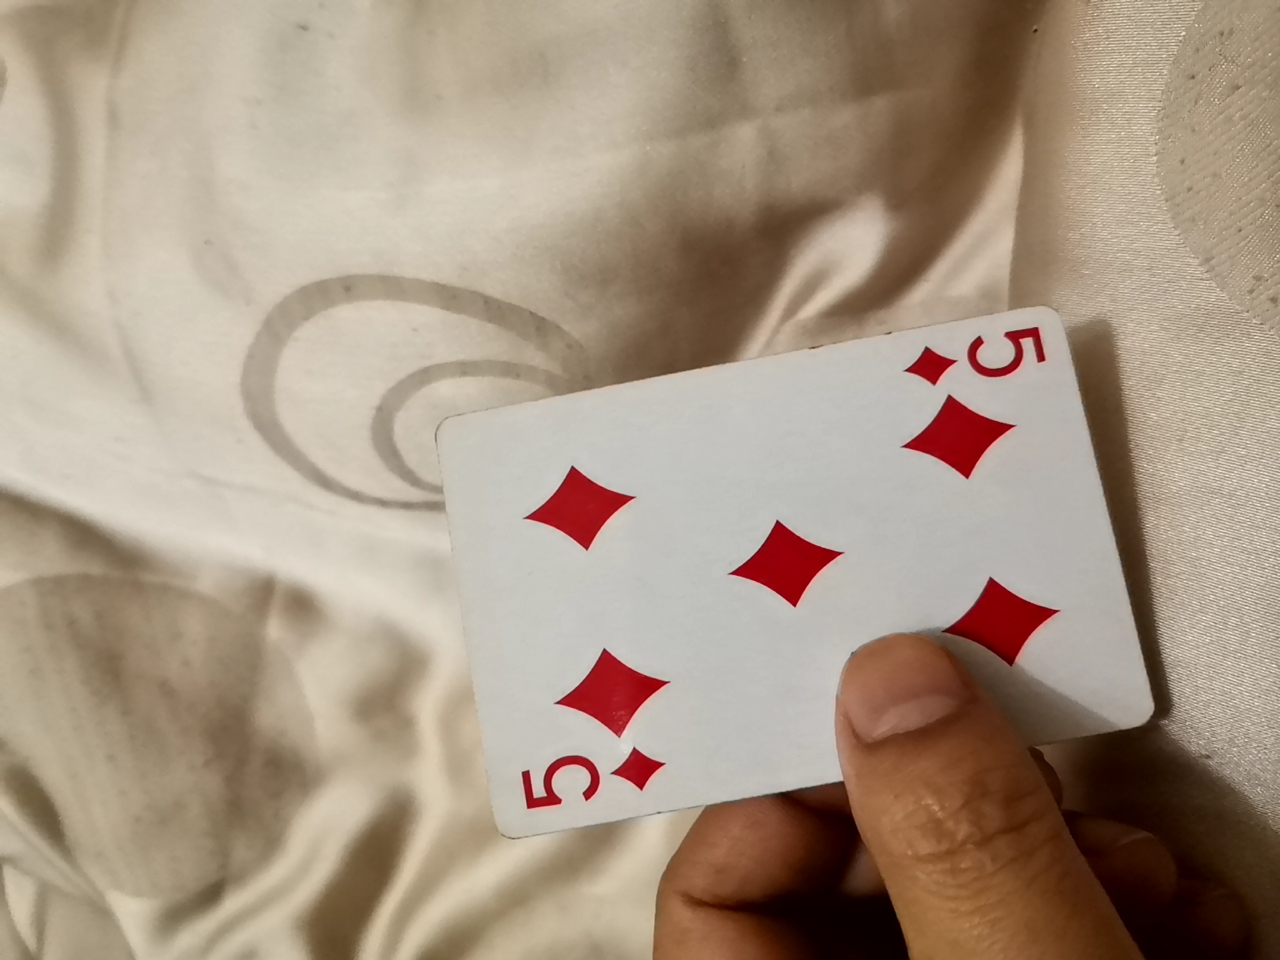fk 5: (438, 306, 1175, 846)
